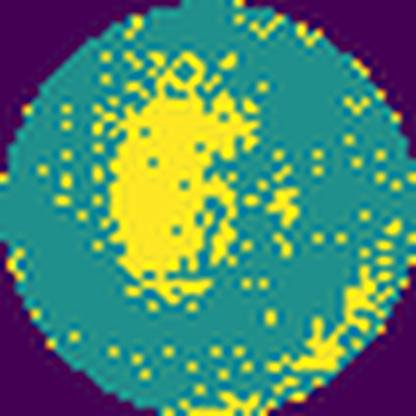Loc: (106, 50, 261, 308)
